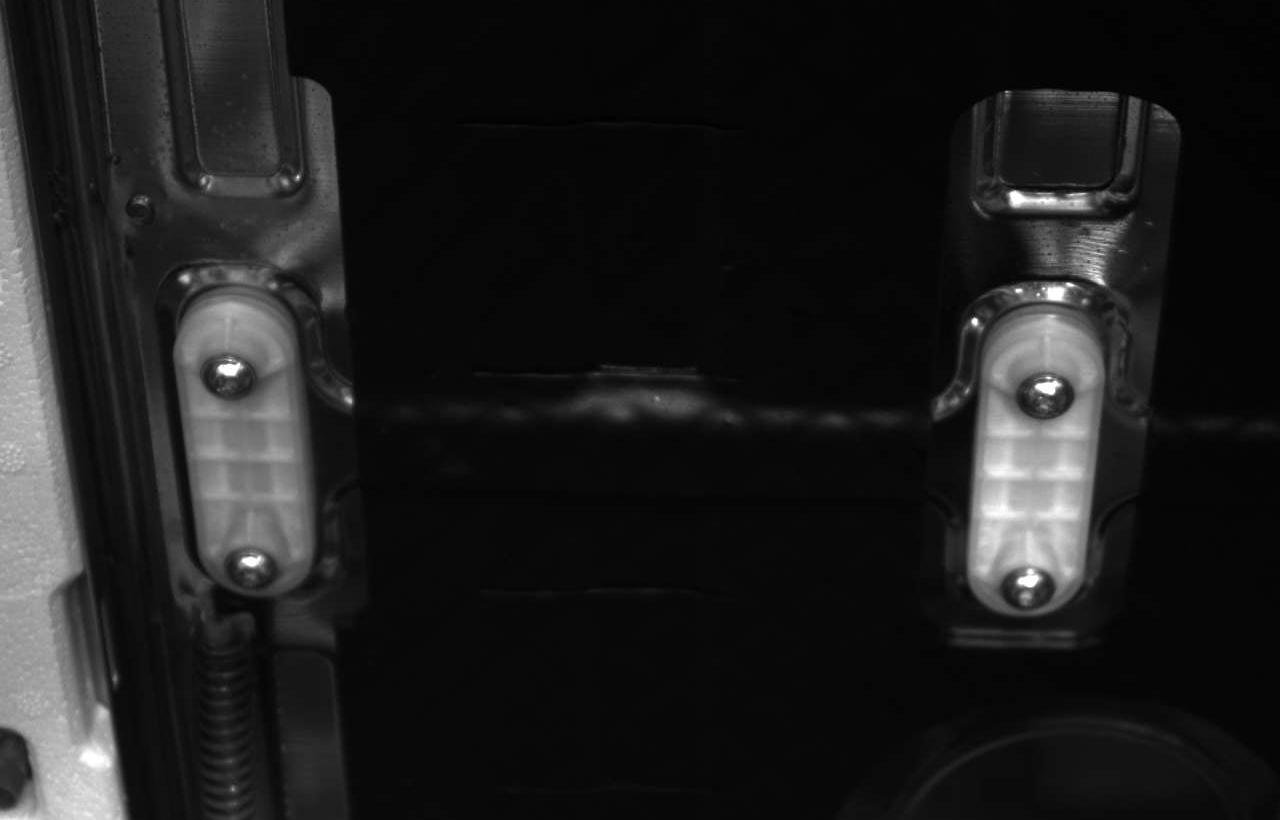vida-ok: (194, 347, 266, 414), (1014, 362, 1081, 429), (993, 547, 1059, 615), (223, 537, 289, 595)
